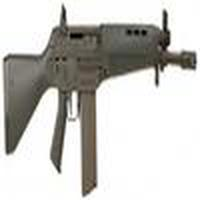gun: (1, 22, 200, 155)
